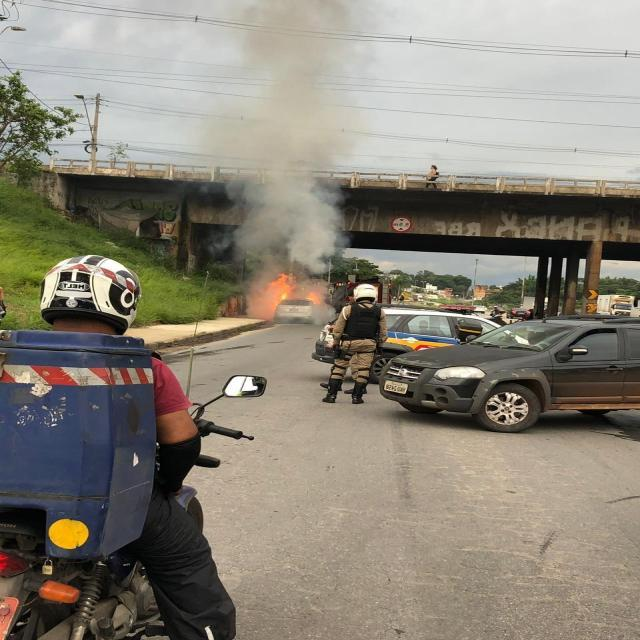Fire: (262, 272, 296, 320), (302, 290, 322, 306)
Smoke: (188, 1, 386, 323)
